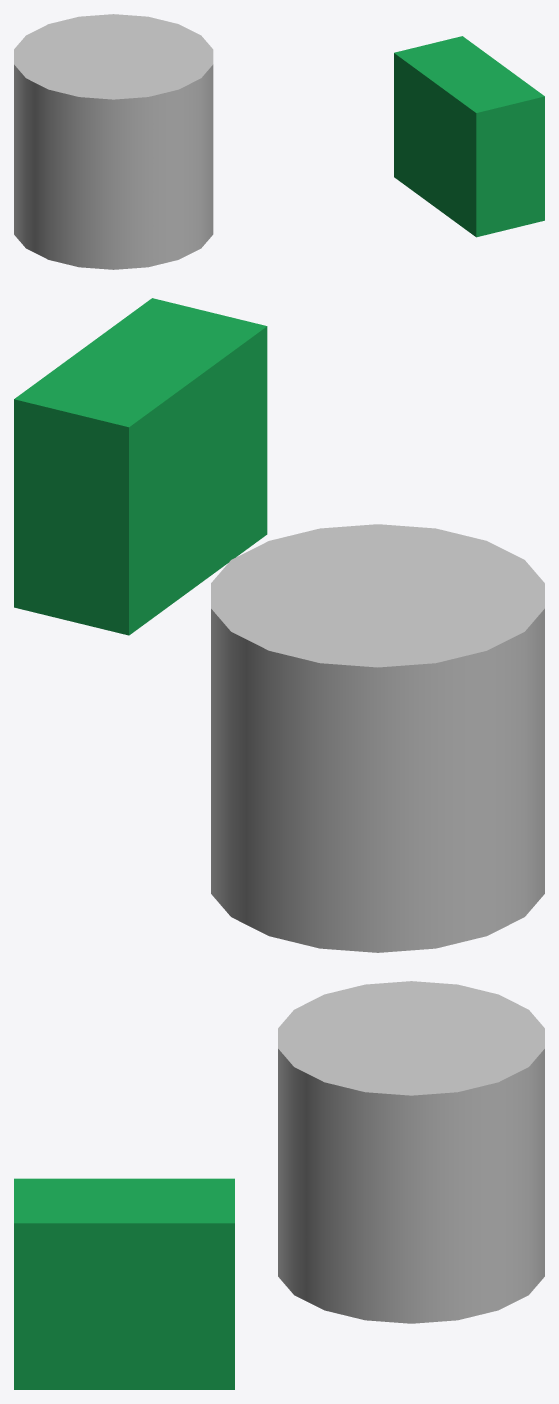
File: multi-mesh-1texture-1color.dae
3 views of the same model, one above another, from view 1: azimuth 30°, elevation 25°; view 2: azimuth 150°, elevation 25°; view 3: azimuth 270°, elevation 25° (orthographic). The views are drawn at different scales.
Parts seen in each view (by area): view 1: Cylinder01, Box01; view 2: Cylinder01, Box01; view 3: Cylinder01, Box01.
Part boxes in pixels (x1,y1,x2,y2): Cylinder01: (14,14,213,269); Box01: (394,36,544,237); Cylinder01: (211,524,544,952); Box01: (14,298,267,635); Cylinder01: (278,981,544,1323); Box01: (14,1178,234,1389).
Bounding box in the file's own units: 103 × 95.41 × 45.23.
